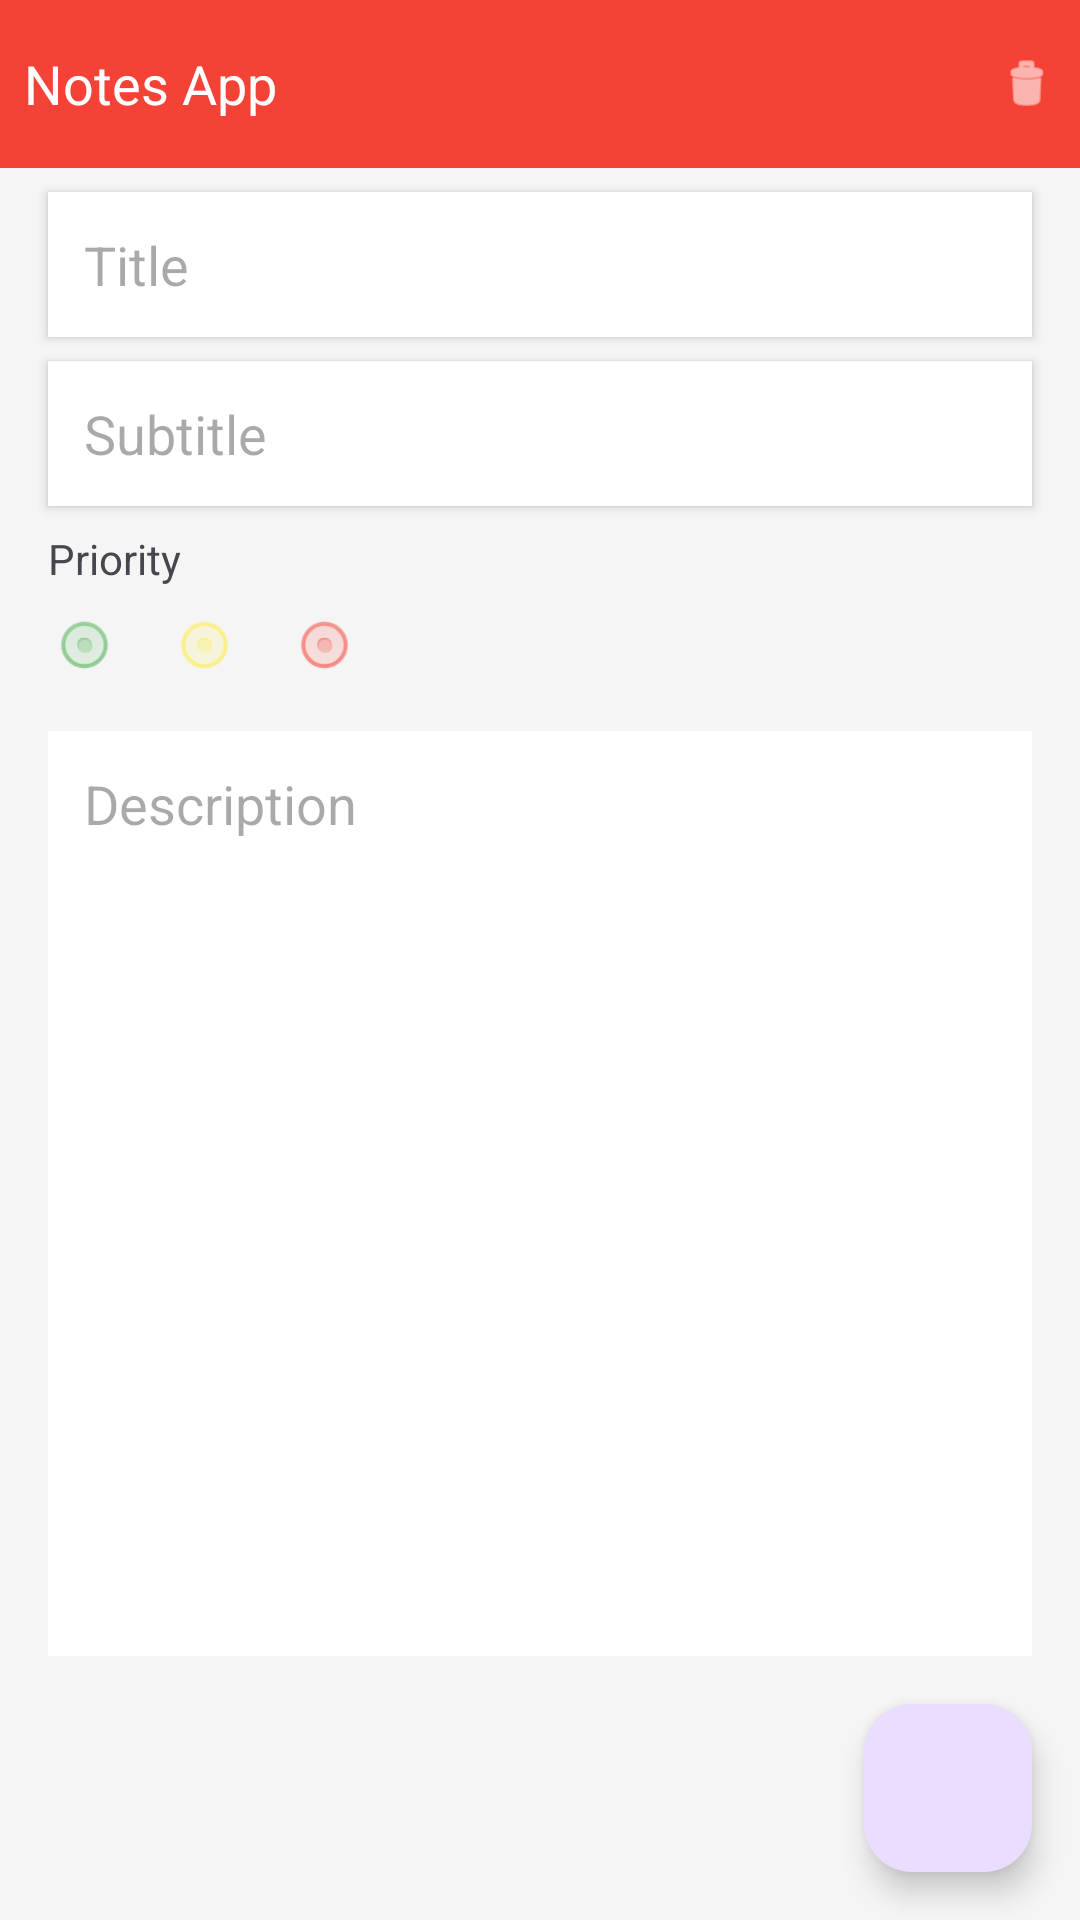

Icon bounding boxes for this 1080w x 1920h phone screenshot, format (x1, y1, x2, y2):
delete: (1010, 60, 1043, 106)
radio: (61, 621, 108, 669), (181, 621, 228, 669), (301, 621, 348, 669)
